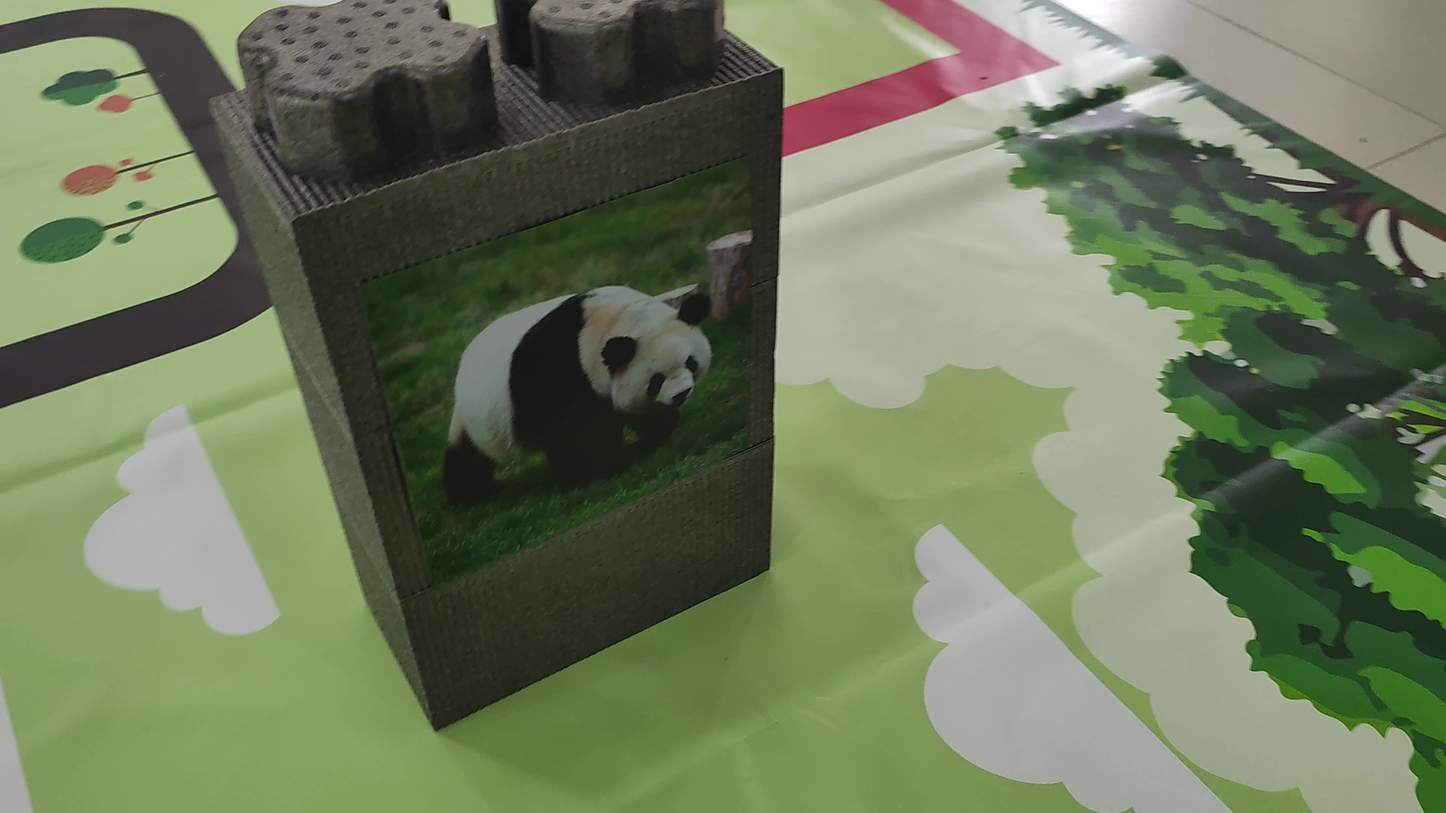panda: (399, 266, 728, 519)
